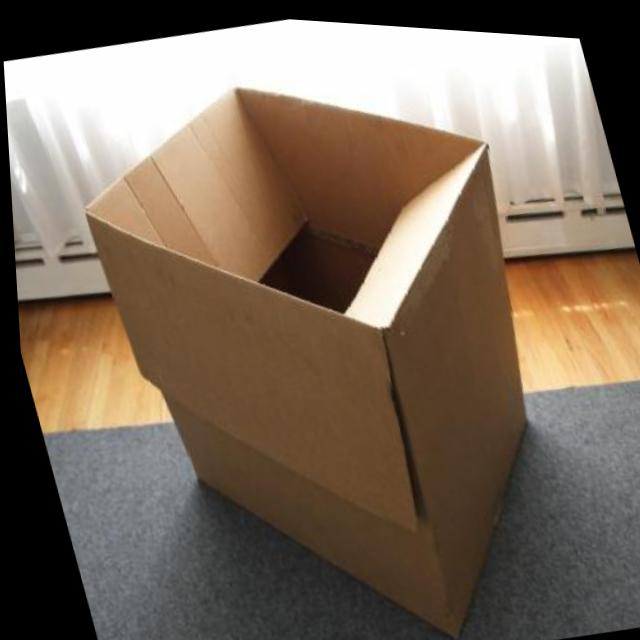box: (38, 2, 638, 640)
